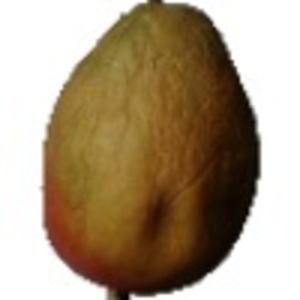mamão: (32, 3, 266, 294)
